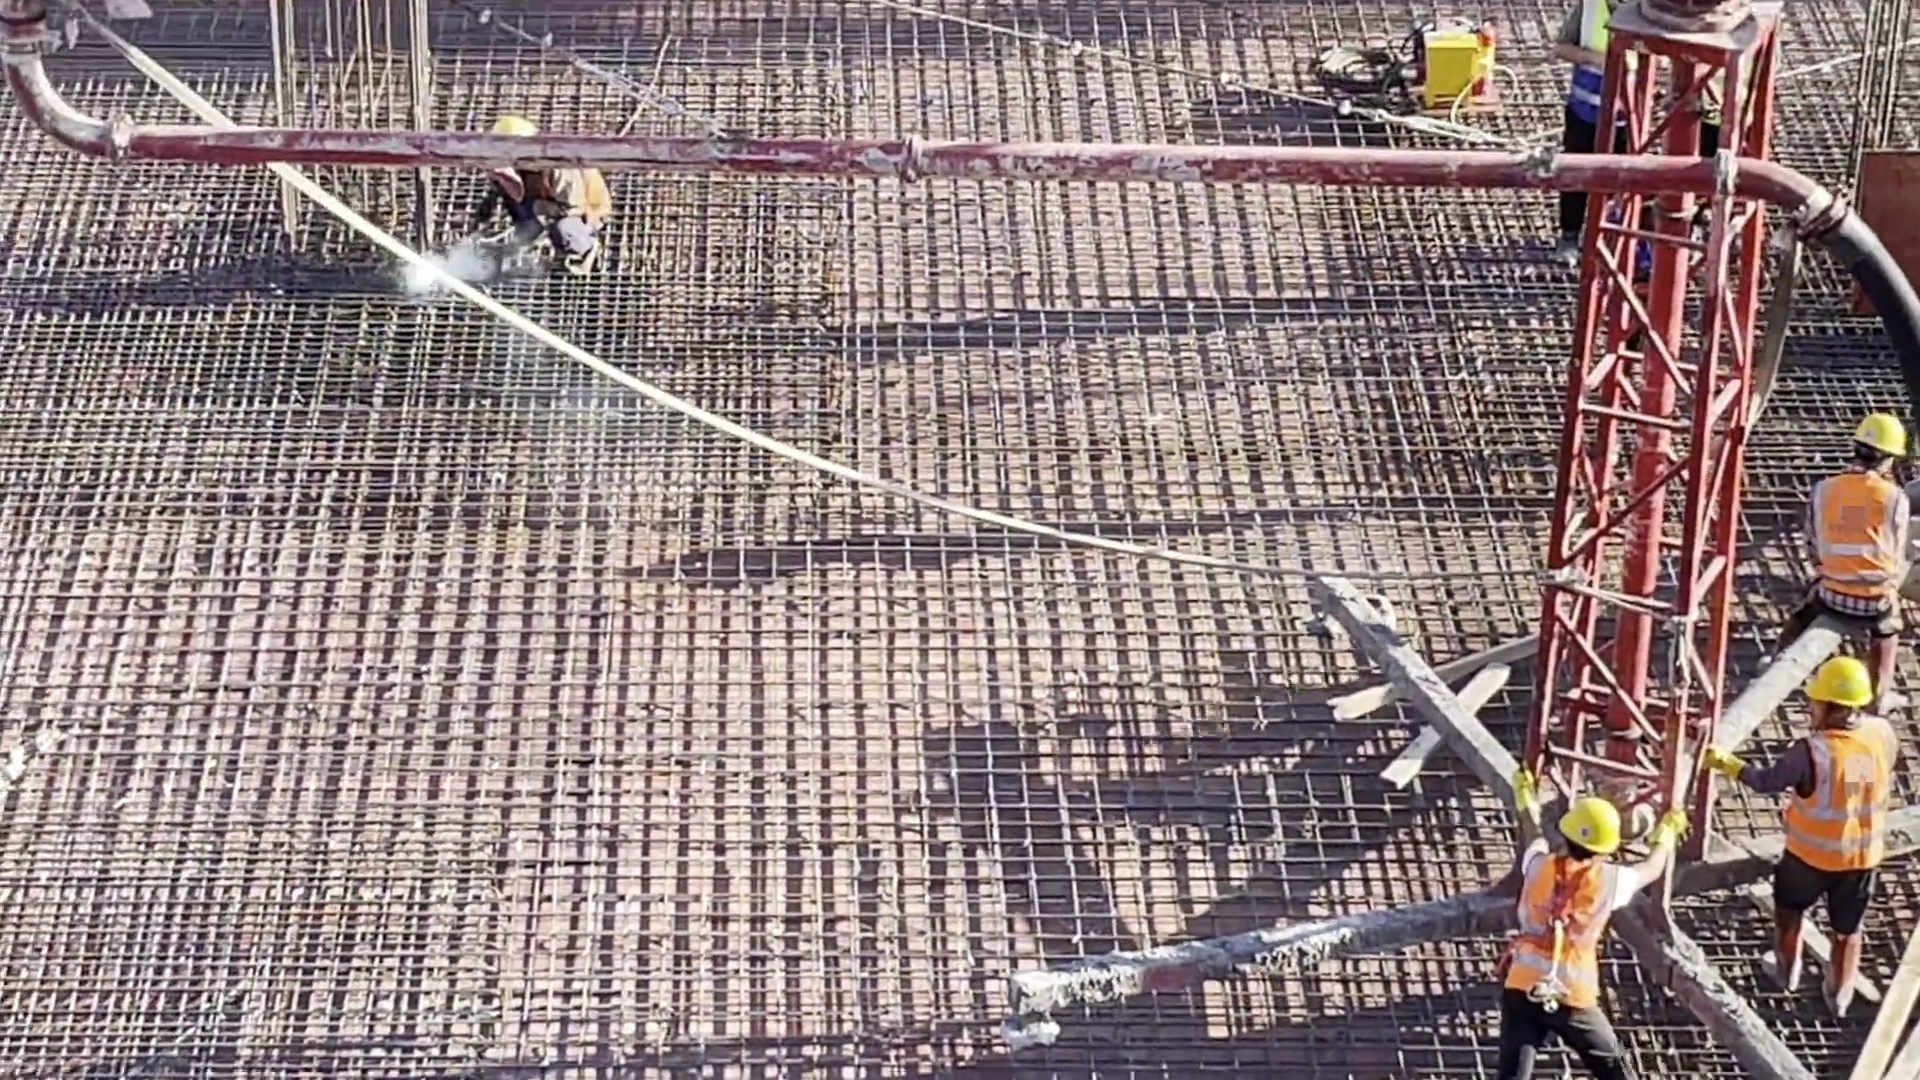helmet: (1544, 797, 1621, 853), (1799, 659, 1870, 713), (1851, 413, 1913, 461)
person: (1707, 649, 1908, 1005), (1496, 764, 1687, 1080), (471, 108, 619, 283), (1803, 409, 1918, 631), (1537, 1, 1626, 256)
vest: (1517, 864, 1607, 1004), (1776, 739, 1877, 865), (1816, 479, 1887, 613), (505, 159, 608, 219), (1572, 13, 1624, 128)
